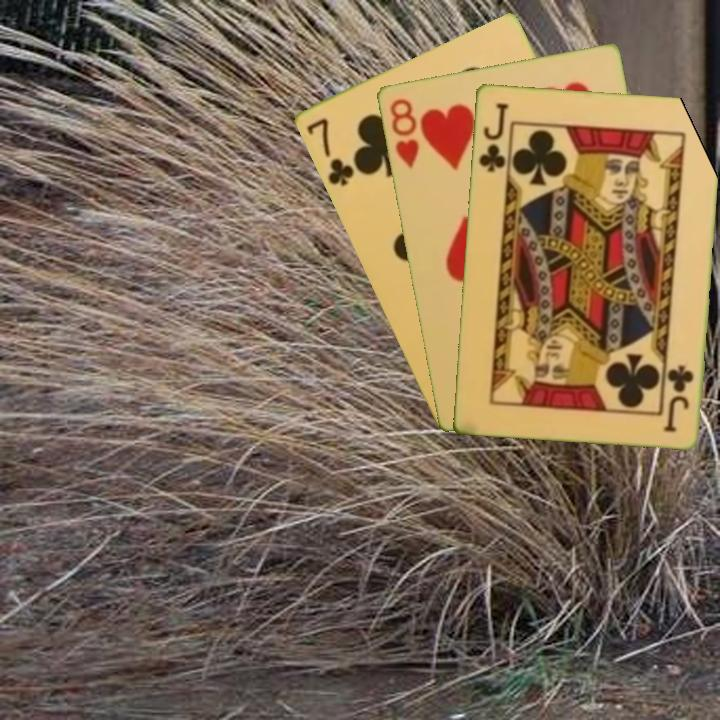7c: (302, 114, 357, 189)
8h: (385, 94, 422, 171)
Jc: (474, 99, 511, 175), (661, 360, 696, 435)
